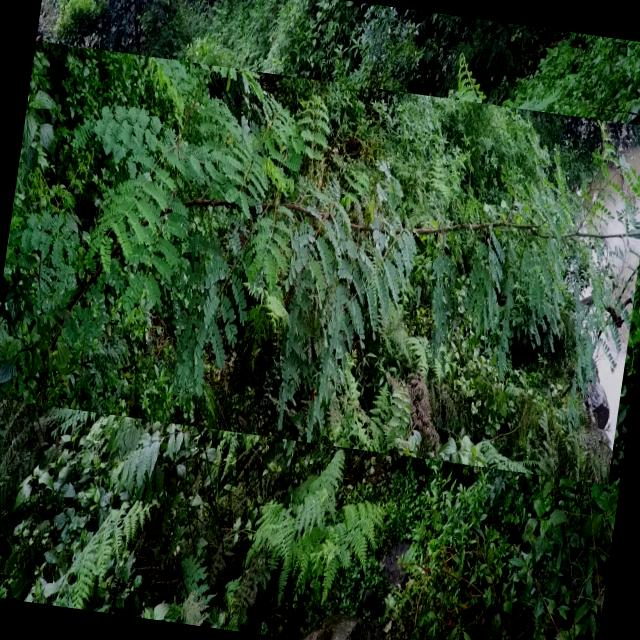Mysore-Thorn-Weed: (0, 40, 640, 484)
